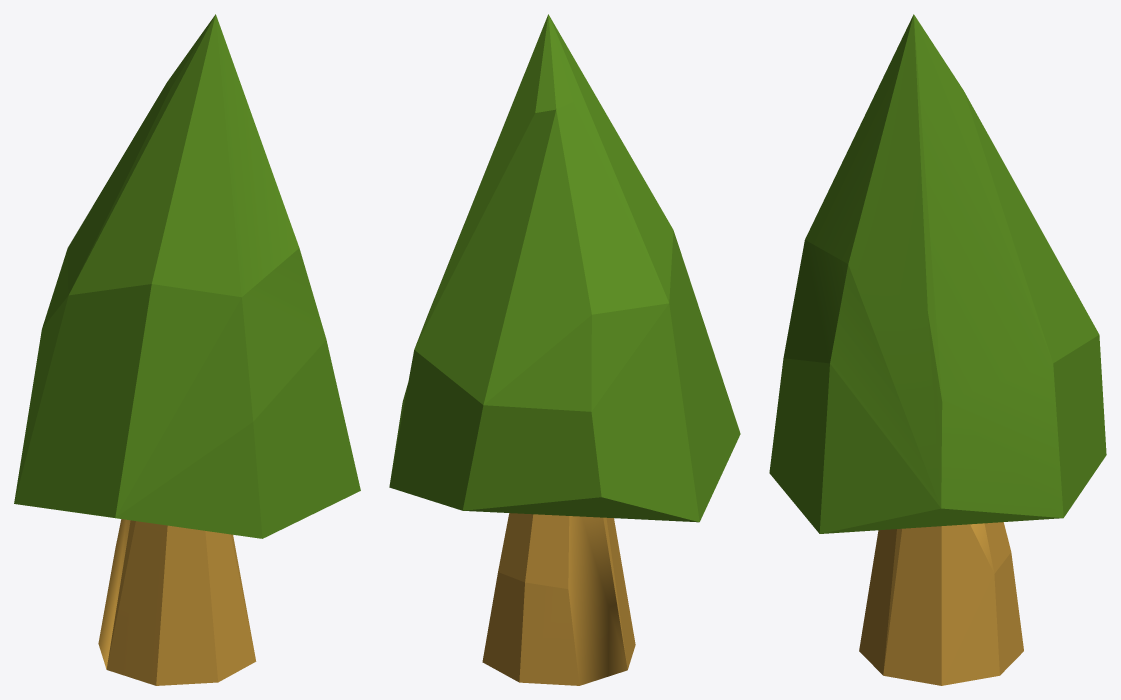
Rendered from low-poly-tree1.glb.
3 renders of one model, left to right at view 1: azimuth 30°, elevation 25°; view 2: azimuth 150°, elevation 25°; view 3: azimuth 270°, elevation 25°, orthographic. The views are drawn at different scales.
Parts seen in each view (by area): view 1: Circle.001; view 2: Circle.001; view 3: Circle.001.
Boxes of the visible parts, x1,y1,x2,y2 form: Circle.001: [14, 14, 360, 685]; Circle.001: [389, 14, 740, 685]; Circle.001: [769, 14, 1106, 685].
Bounding box in the file's own units: 63.5 × 124 × 58.19.
